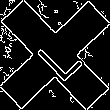L_NW: (26, 26, 84, 84)
